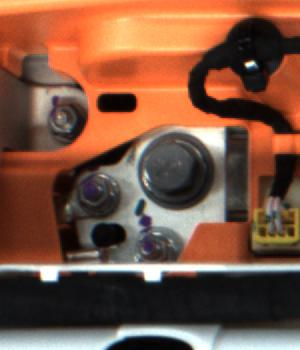nut_b: (131, 129, 219, 215)
